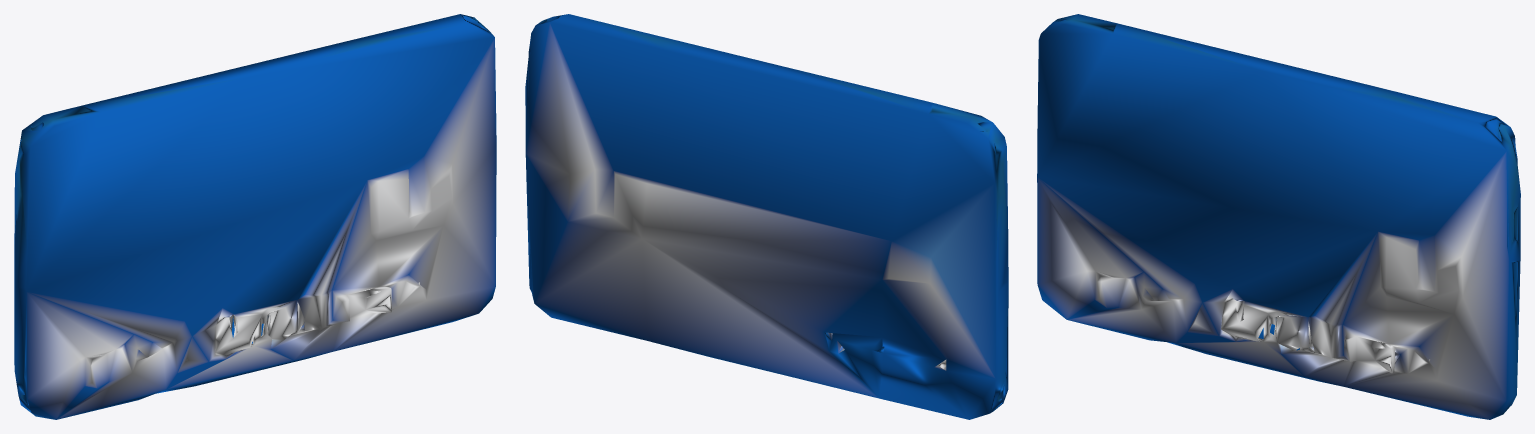
Rendered from gen3d-credit-card-lod1.glb.
The picture shows the model from 3 angles, left to right: view 1: azimuth 30°, elevation 25°; view 2: azimuth 150°, elevation 25°; view 3: azimuth 330°, elevation 25°; orthographic projection.
Visible parts, largest first — view 1: part_0; view 2: part_0; view 3: part_0.
Boxes of the visible parts, left/top/right/bottom form: part_0: left=14, top=14, right=496, bottom=419; part_0: left=525, top=14, right=1008, bottom=419; part_0: left=1037, top=14, right=1520, bottom=419.
Size of the model in its own units: 1.66 by 0.9999 by 0.1211.
